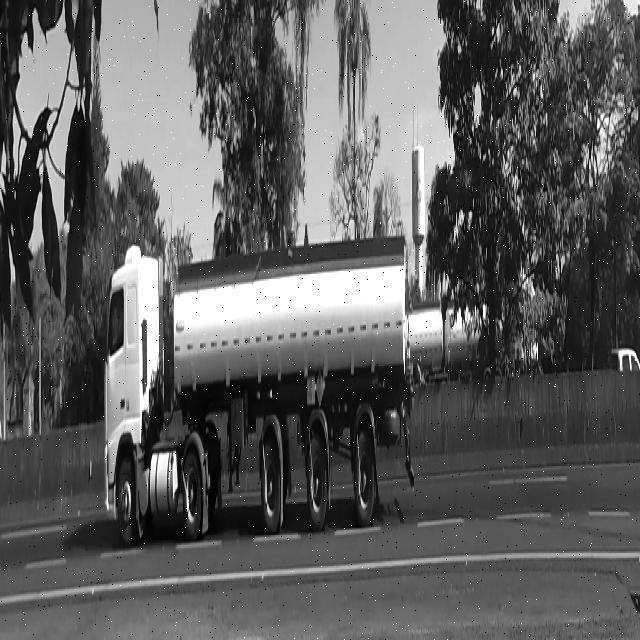-axle: (114, 445, 140, 565), (261, 426, 283, 548), (352, 418, 377, 520), (307, 427, 329, 537), (182, 446, 204, 540)
